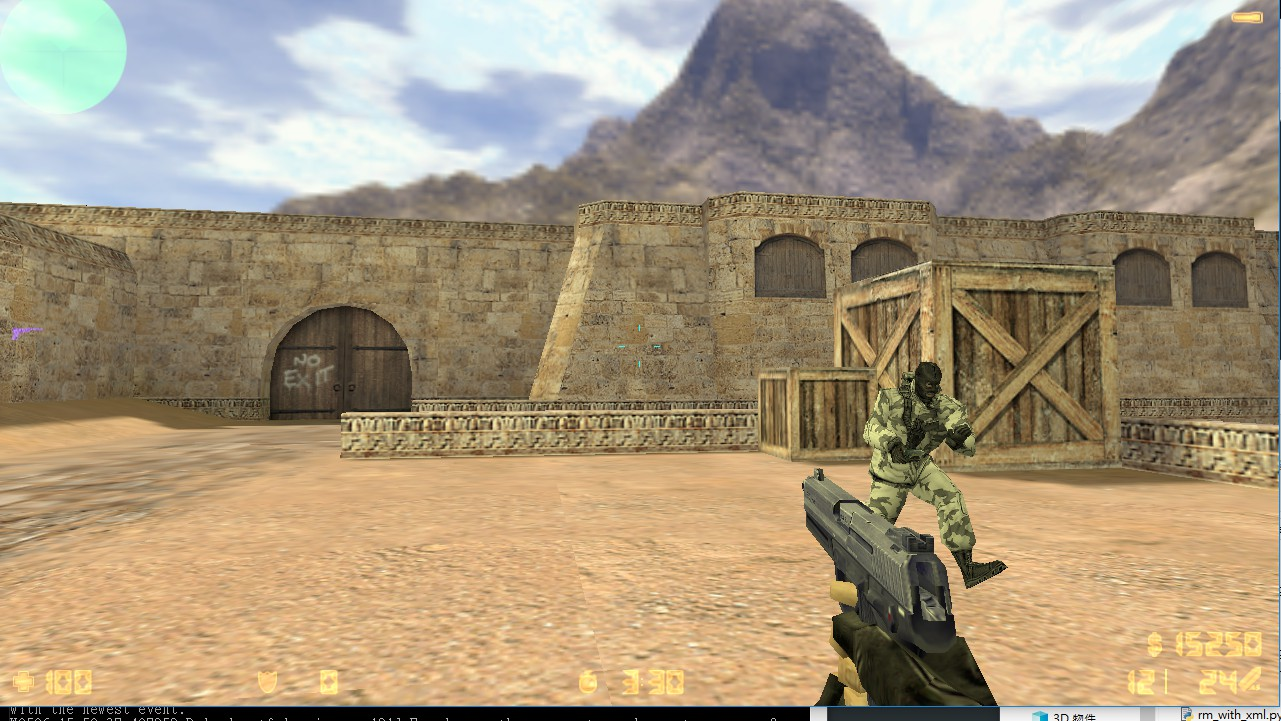person: (867, 353, 970, 509)
